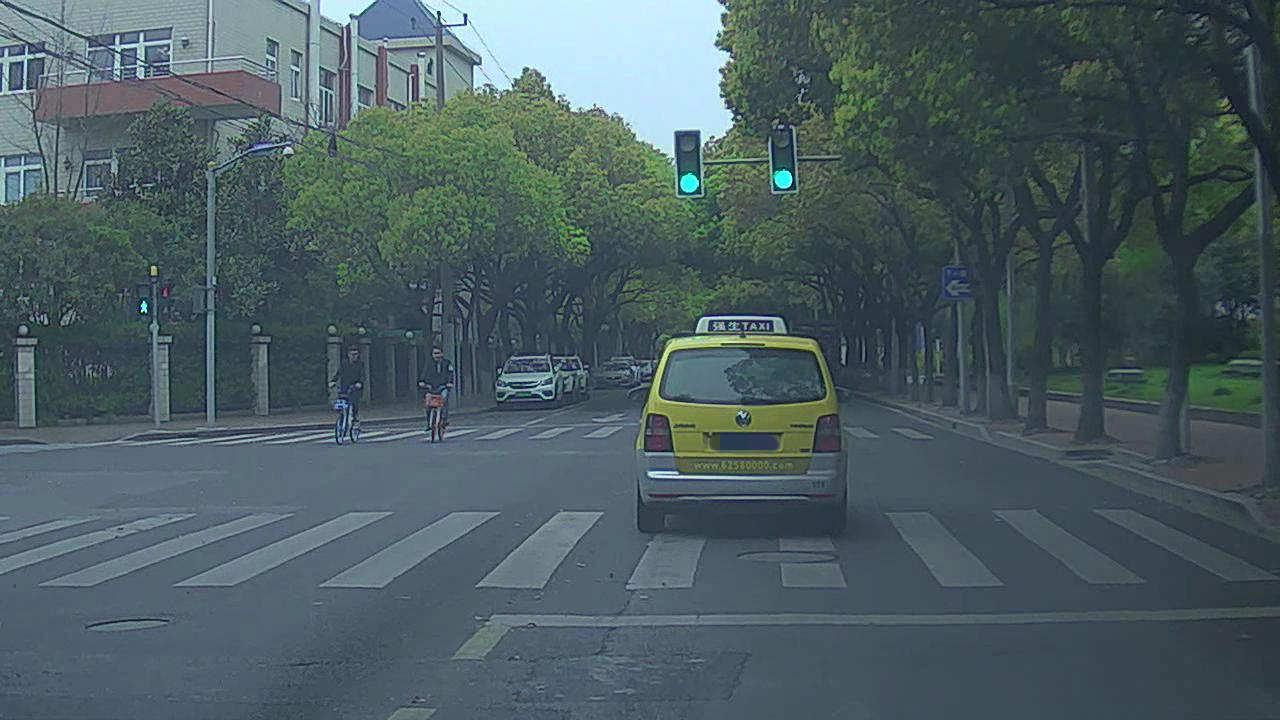traffic_light: (767, 126, 800, 189), (676, 131, 702, 197)
